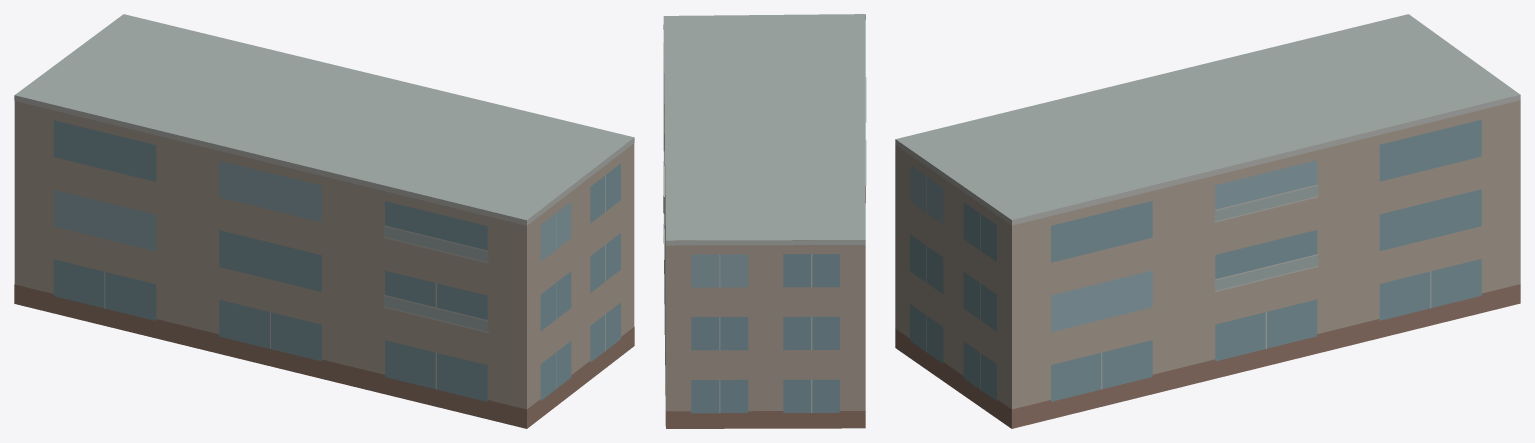
File: survey-upis-32976469.glb
The picture shows the model from 3 angles, left to right: view 1: azimuth 30°, elevation 25°; view 2: azimuth 150°, elevation 25°; view 3: azimuth 270°, elevation 25°; orthographic projection. The views are drawn at different scales.
Visible parts, largest first — view 1: survey-upis-32976469.tmp; view 2: survey-upis-32976469.tmp; view 3: survey-upis-32976469.tmp.
Part boxes in pixels (x1,y1,x2,y2): survey-upis-32976469.tmp: [14, 14, 634, 428]; survey-upis-32976469.tmp: [663, 14, 866, 428]; survey-upis-32976469.tmp: [895, 14, 1520, 428].
Bounding box in the file's own units: 19.37 × 9.15 × 24.83.
